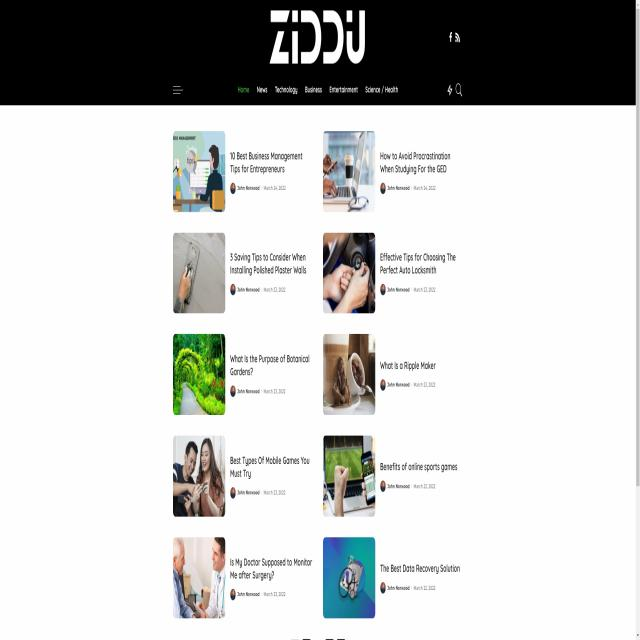search: (454, 80, 464, 104)
tab-bar: (168, 78, 404, 101)
